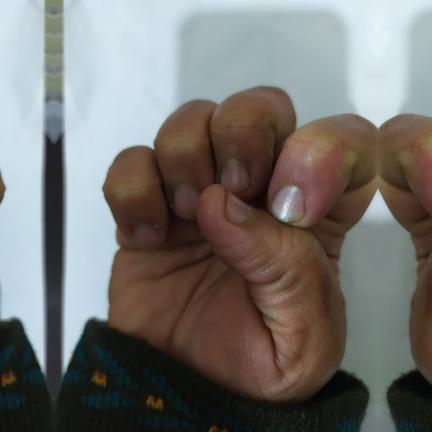Nail: (270, 185, 306, 222), (220, 164, 250, 192), (227, 190, 251, 223), (174, 186, 200, 214), (135, 223, 157, 246)
